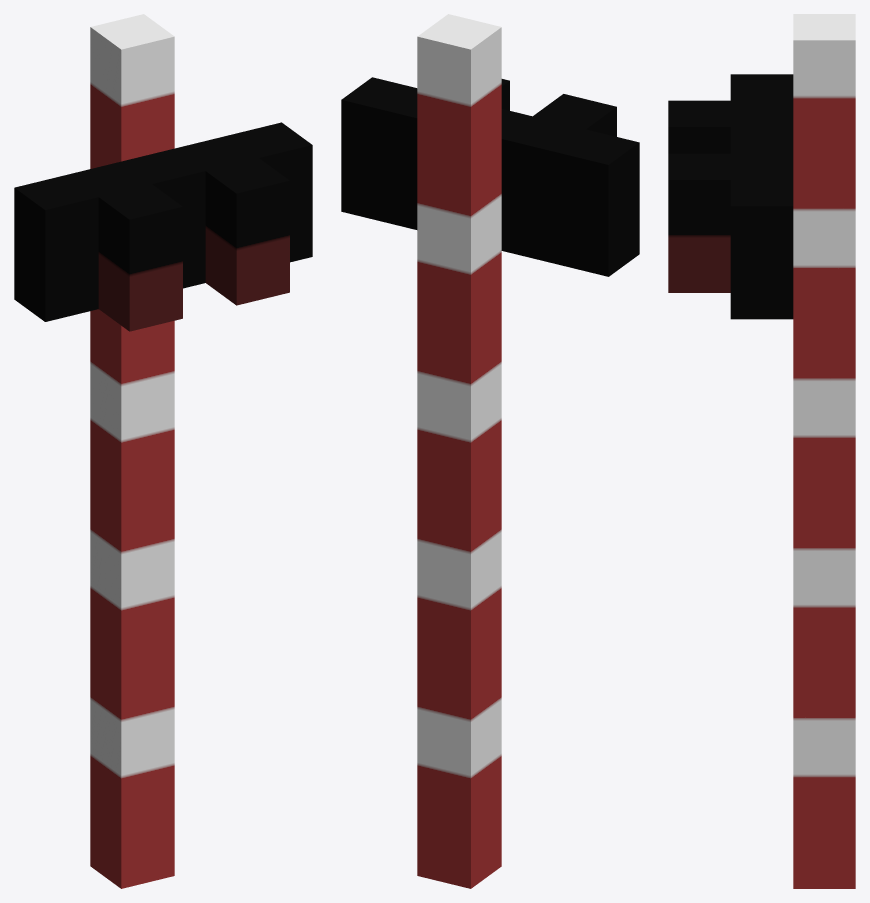
The model's file is TrainLight.fbx.
3 renders of one model, left to right at view 1: azimuth 30°, elevation 25°; view 2: azimuth 150°, elevation 25°; view 3: azimuth 270°, elevation 25°, orthographic.
Parts seen in each view (by area): view 1: train_light_off; view 2: train_light_off; view 3: train_light_off.
Boxes of the visible parts, <box> form: train_light_off: <box>14,14,312,888</box>; train_light_off: <box>341,14,639,888</box>; train_light_off: <box>668,14,855,888</box>.
Bounding box in the file's own units: 62.5 × 188 × 37.5.
